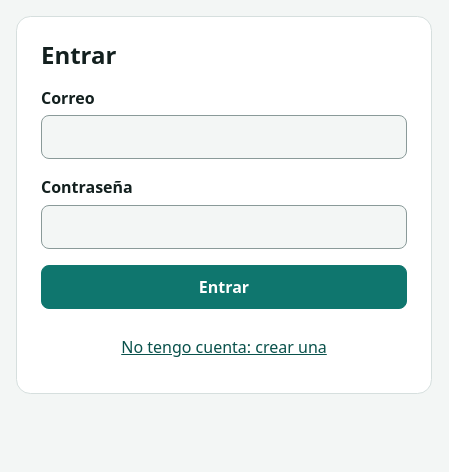
FormularioLogin › muestra el error de Firebase con palabras claras
Type "ana@ejemplo.com" into the field labelled "Correo" at (224, 137), box [41, 115, 407, 159]
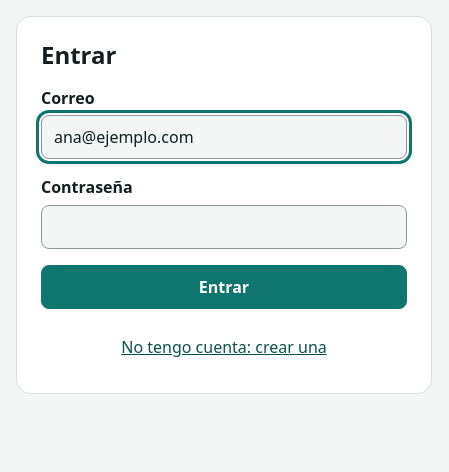
Type "secreto1" into the password field labelled "Contraseña" at (224, 227), box [41, 205, 407, 249]
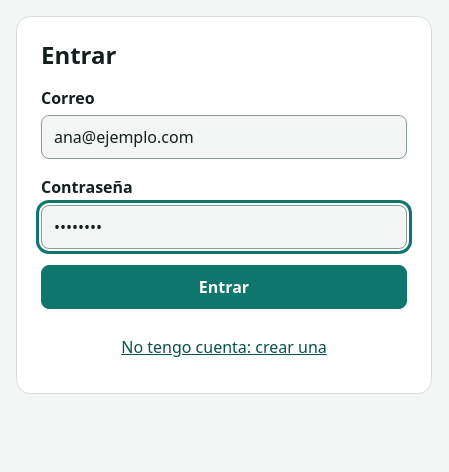
Click the button "Entrar" at (224, 287), box [41, 265, 407, 309]
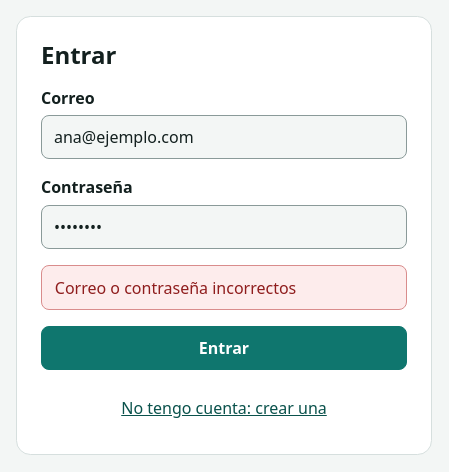
Now the message reads "Correo o contraseña incorrectos", box [55, 277, 296, 299]
